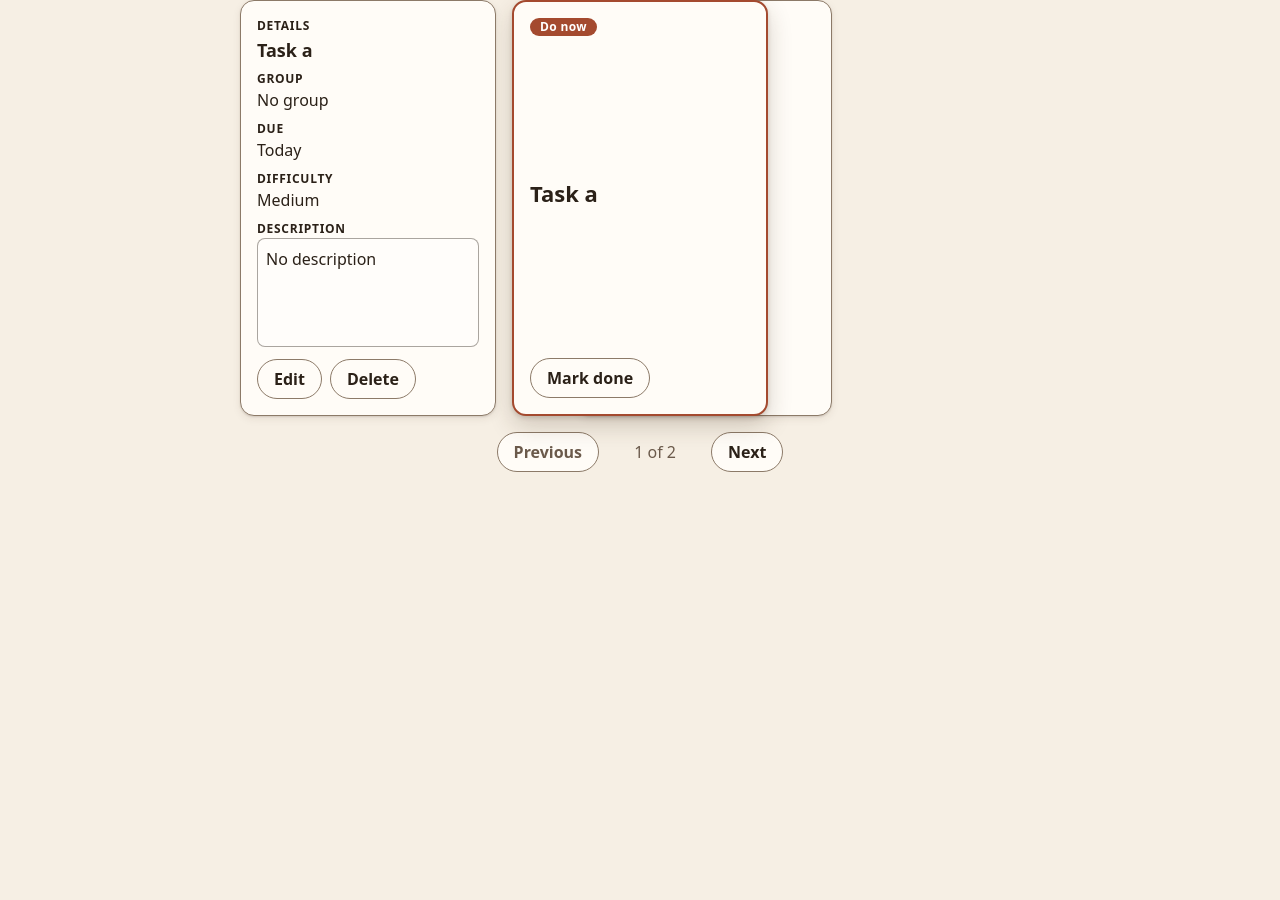
Test: Edit › when the task is gone › says so above the cards as a notice, and it stays when the card and the dialog go
Click the button "Edit". click: x=289, y=379
box: [257, 359, 322, 399]
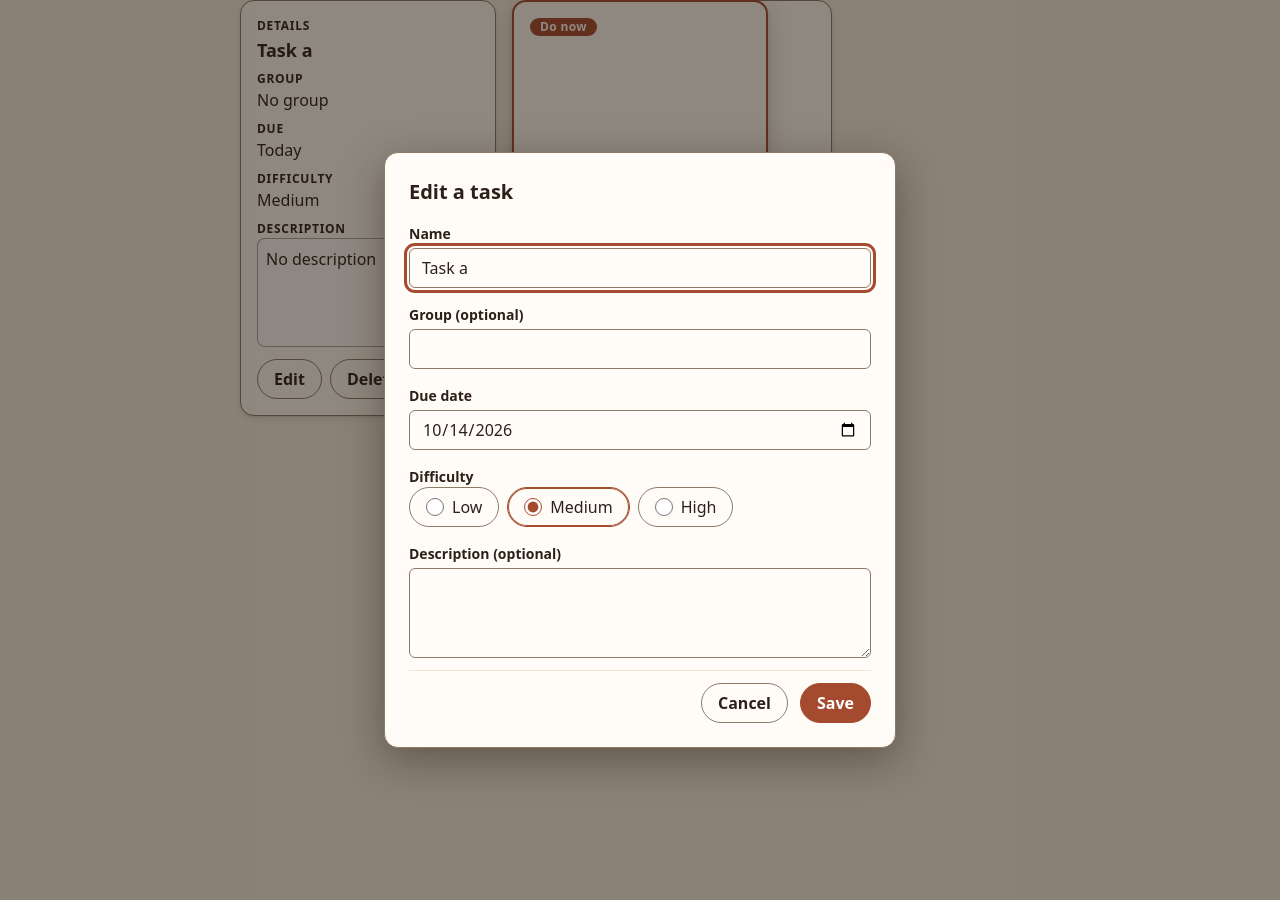
Submit the form, box [409, 223, 871, 723]
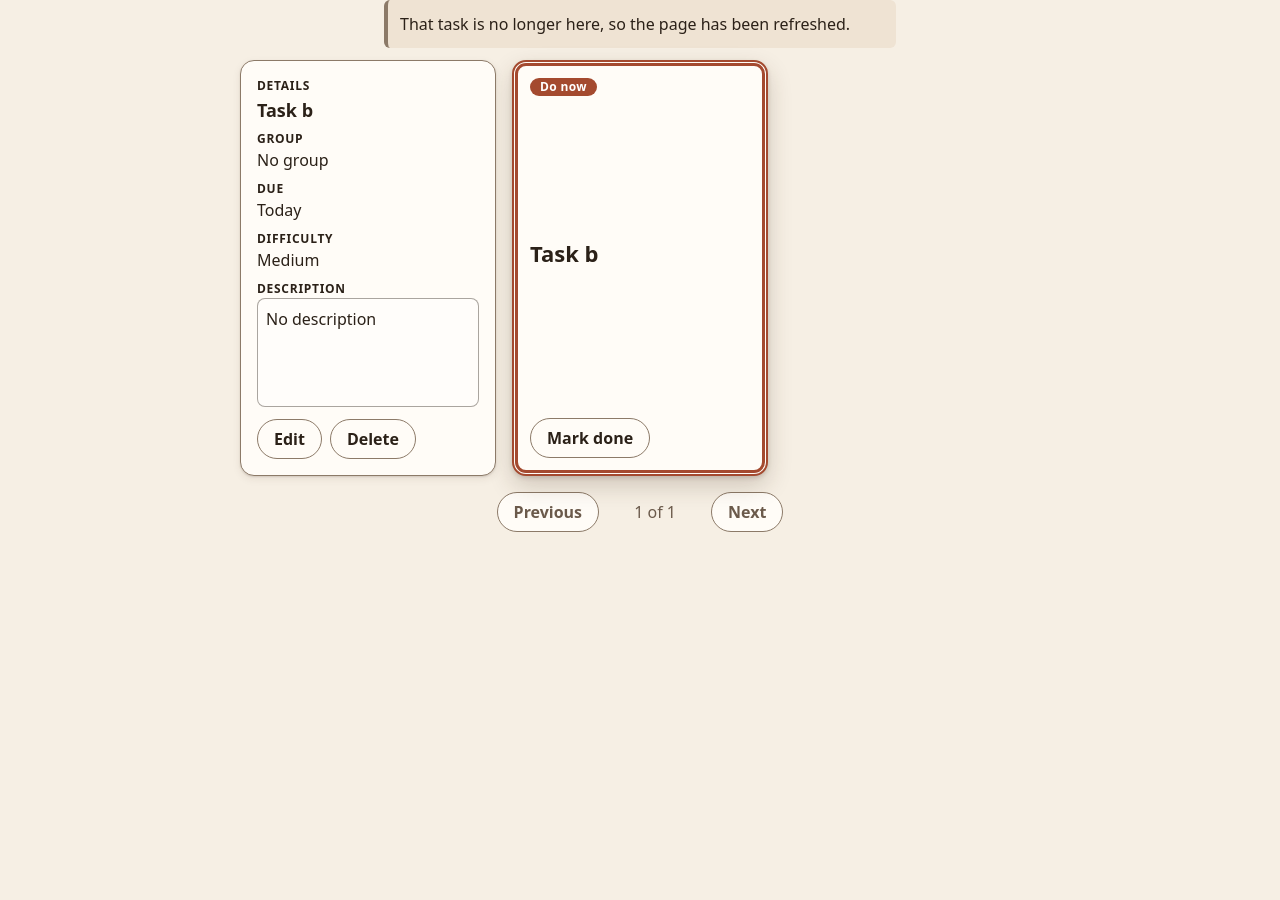
Expected: the message "That task is no longer here, so the page has been refreshed." is shown, [384, 0, 896, 48]
